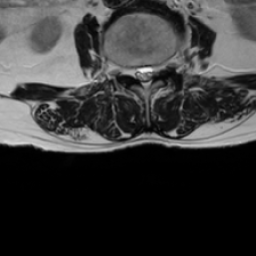CCS_normal: (140, 54, 148, 99)
LFS_normal: (157, 49, 167, 83)
LLS_normal: (148, 55, 157, 91)
RFS_normal: (124, 54, 132, 86)
RLS_normal: (132, 54, 140, 91)
